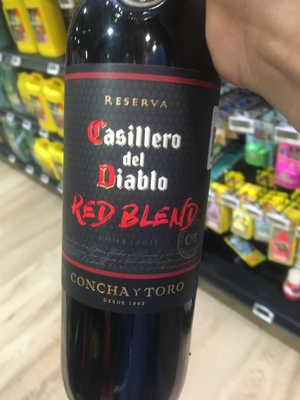casillero del diablo red blend: (57, 19, 223, 400)
